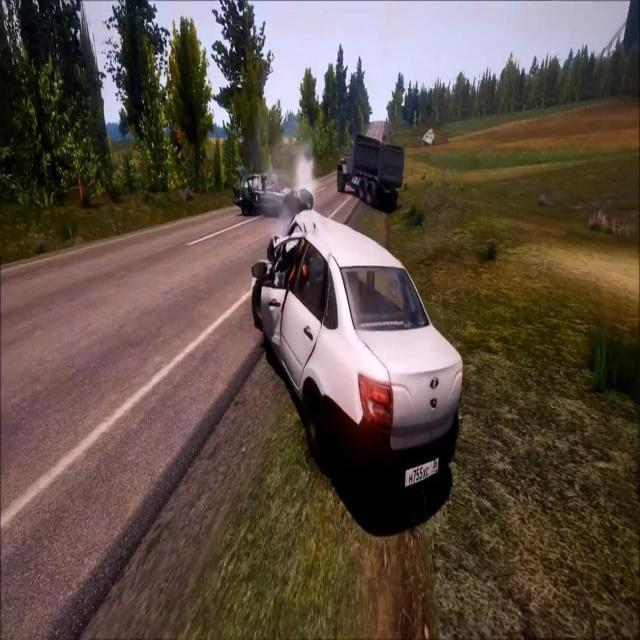multiple_accident: (182, 113, 505, 513)
